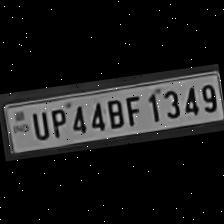1: (141, 88, 162, 122)
3: (159, 86, 181, 118)
4: (65, 100, 88, 134), (84, 98, 106, 131), (178, 82, 200, 114)
9: (196, 79, 219, 112)
B: (102, 94, 125, 127)
F: (121, 92, 144, 124)
P: (46, 104, 69, 137)
U: (28, 107, 50, 140)
